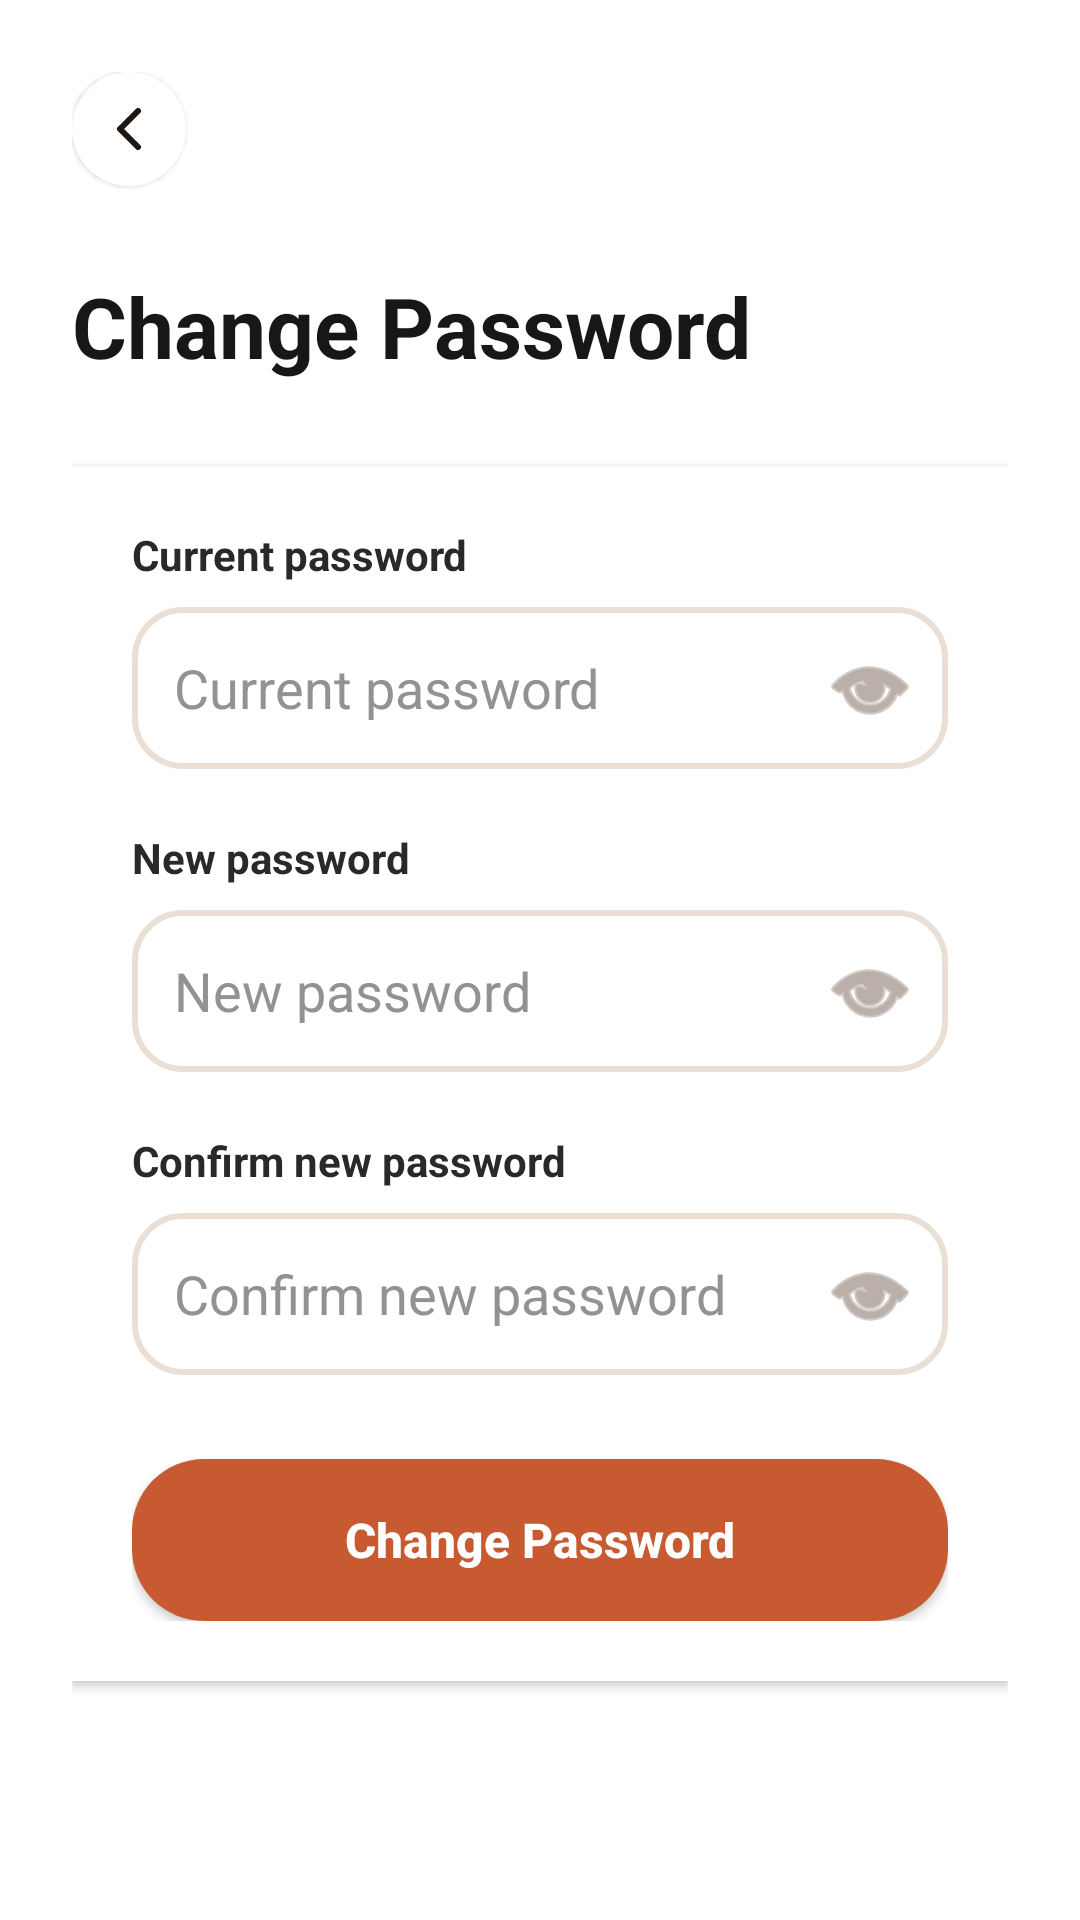

Screen size 1080px x 1920px. Icon name, then its box in pixels as (x1, y1, x2, y2):
Navigate Back: (72, 98, 141, 177)
Show password: (831, 666, 909, 715), (831, 969, 909, 1018), (831, 1272, 909, 1321)
